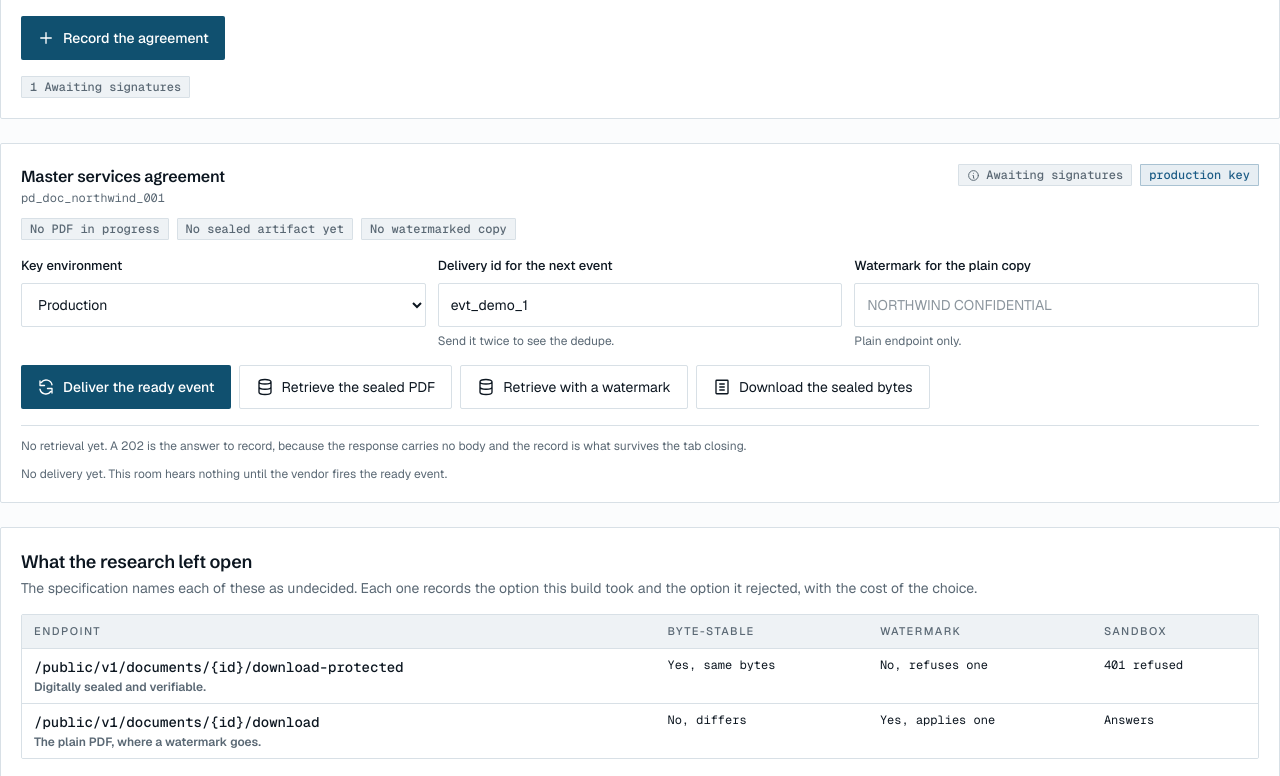
it: the refusals › says a 409 is not retryable and names the state
(page scrolled)
Click the button "Retrieve the sealed PDF".
click(346, 386)  # box [239,364,452,408]
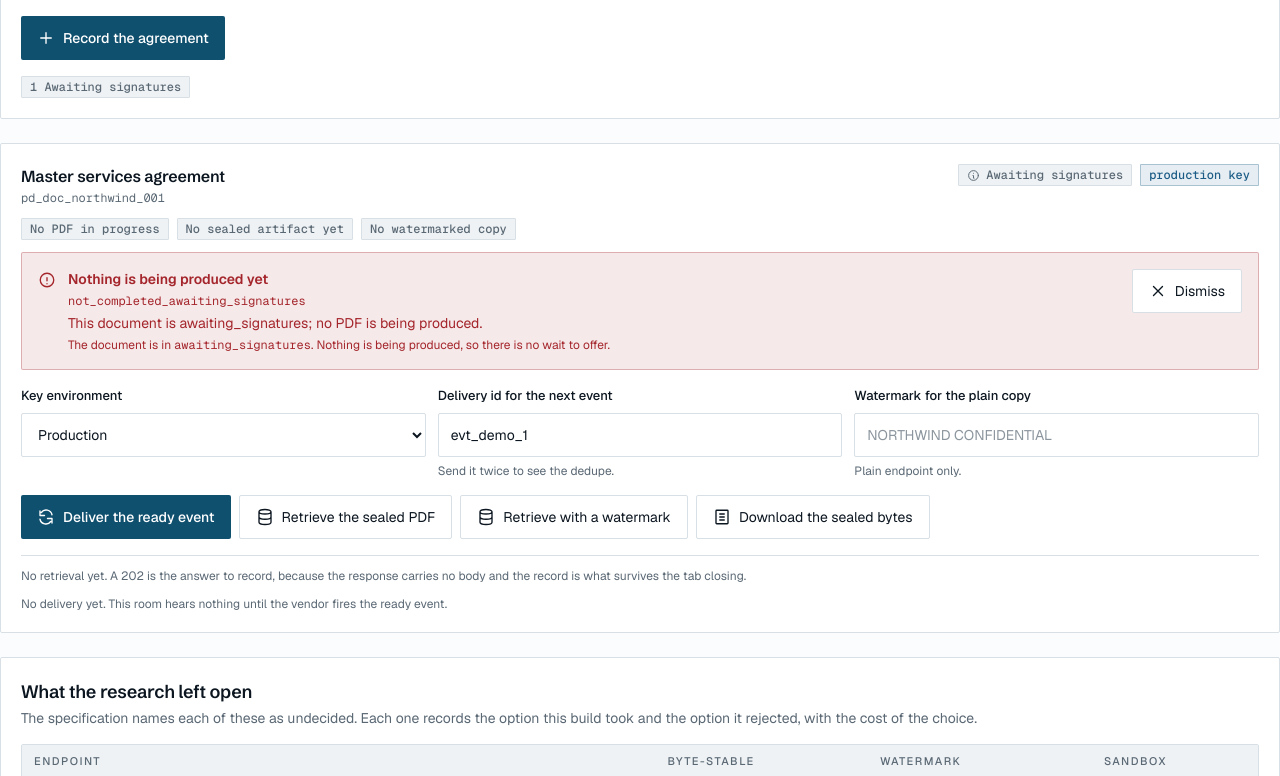
Expected: the text "Nothing is being produced yet" is shown, [68,270,268,288]
Expected: the text "no wait to offer" is shown, [313,337,610,353]
